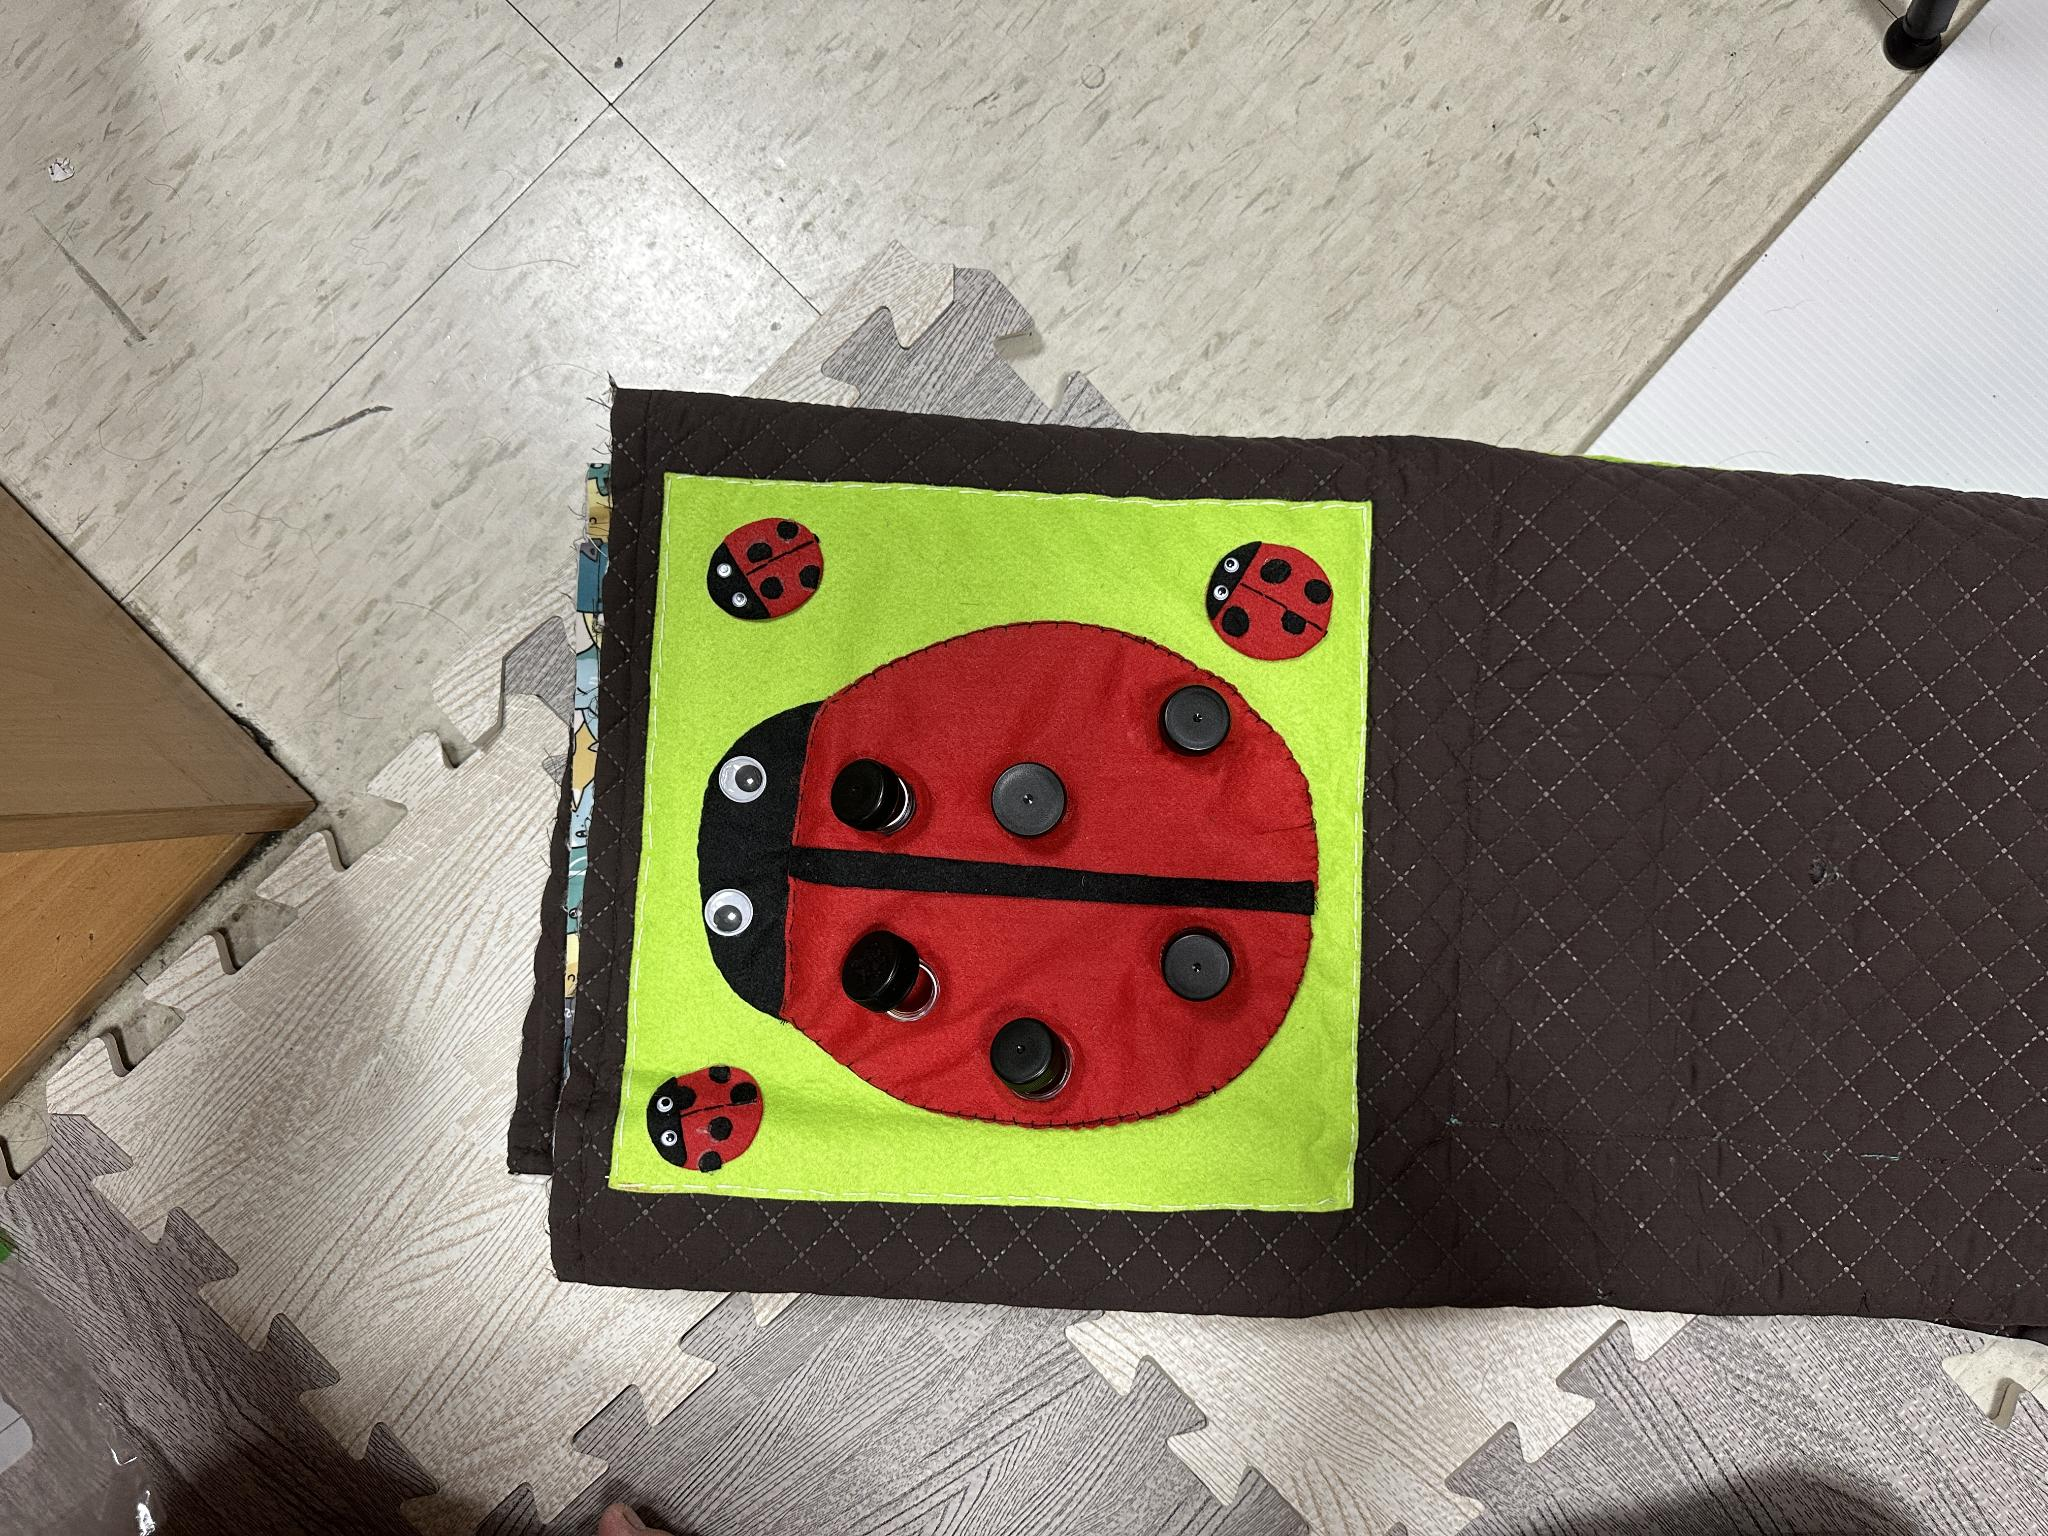cap_ng: (806, 749, 955, 847), (974, 1000, 1093, 1113), (830, 923, 953, 1026)
cap_ok: (971, 753, 1092, 858), (1140, 662, 1248, 770), (1143, 912, 1245, 1018)
